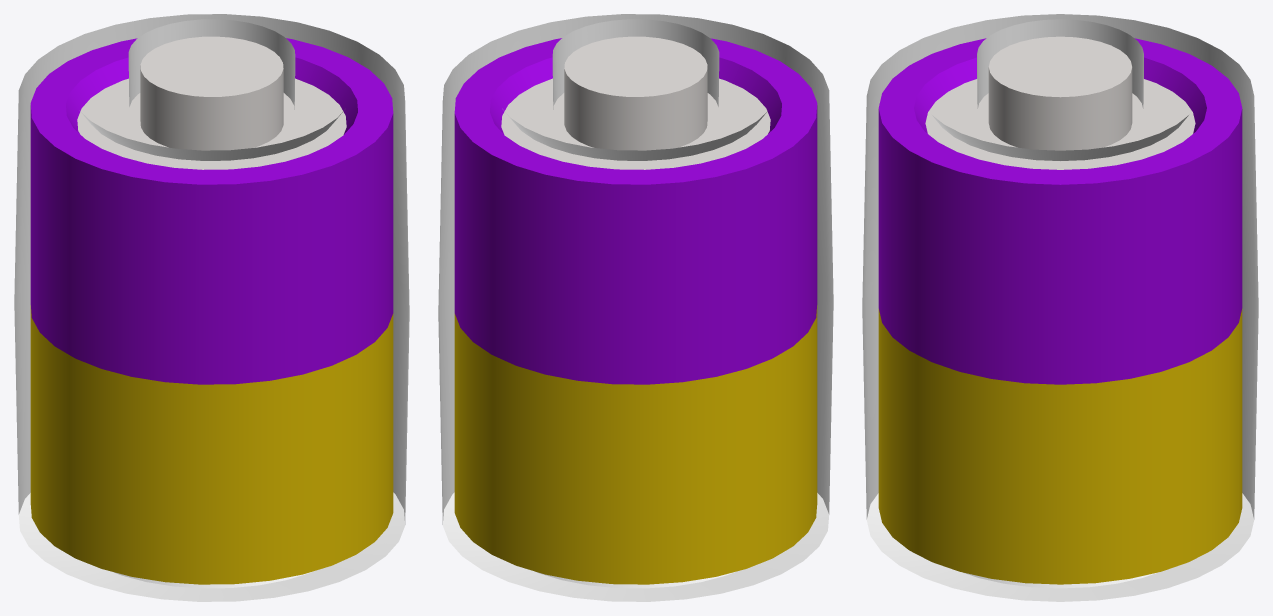
The model's file is Batter2.glb.
3 renders of one model, left to right at view 1: azimuth 30°, elevation 25°; view 2: azimuth 150°, elevation 25°; view 3: azimuth 270°, elevation 25°, orthographic.
Parts seen in each view (by area): view 1: Cylinder; view 2: Cylinder; view 3: Cylinder.
Part boxes in pixels (box(x1,y1,x2,y2)): Cylinder: box(14, 14, 409, 601); Cylinder: box(438, 14, 833, 601); Cylinder: box(862, 14, 1258, 601).
Size of the model in its own units: 1.03 by 1.36 by 1.03.
